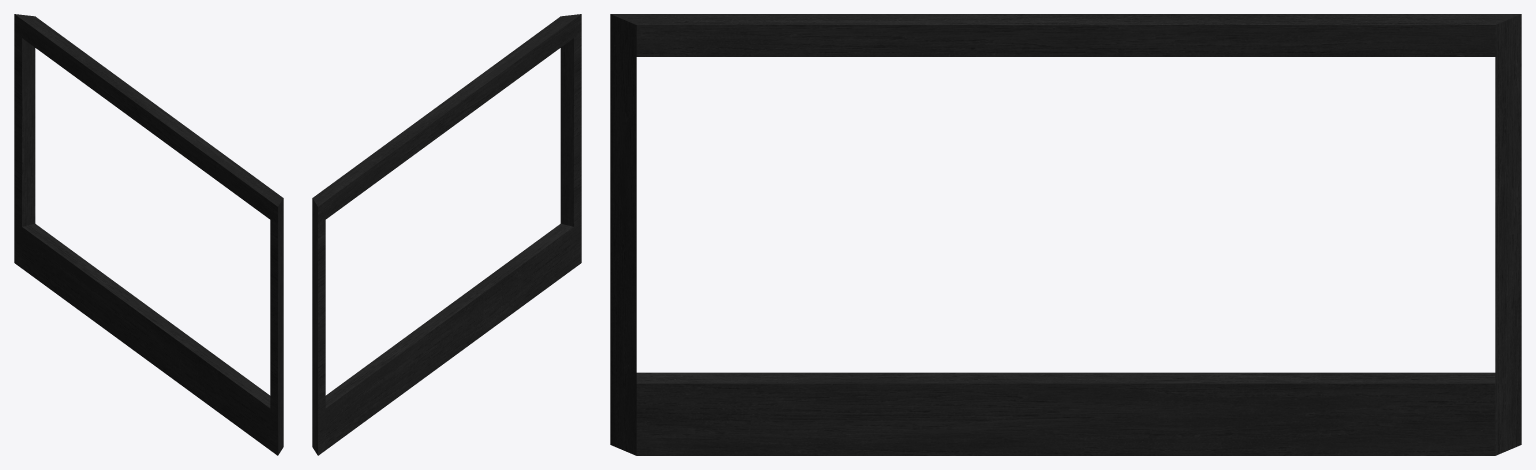
File: CageWall.fbx
The picture shows the model from 3 angles, left to right: view 1: azimuth 30°, elevation 25°; view 2: azimuth 150°, elevation 25°; view 3: azimuth 270°, elevation 25°; orthographic projection. The views are drawn at different scales.
Parts seen in each view (by area): view 1: ID2; view 2: ID2; view 3: ID2.
Boxes of the visible parts, bbox=[...] form: ID2: bbox=[14, 14, 283, 455]; ID2: bbox=[312, 14, 581, 455]; ID2: bbox=[610, 14, 1521, 455].
Size of the model in its own units: 7.5 by 135 by 259.
Materials: 1 (1 with a texture image).
